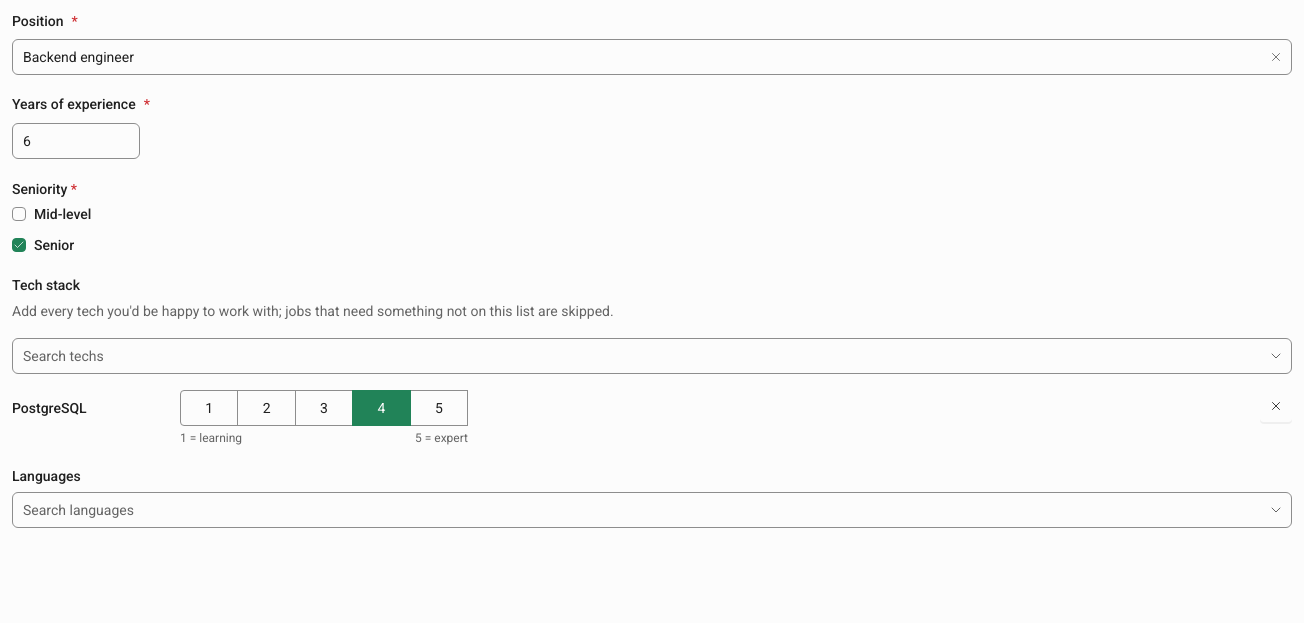
Test: JobForm › a new language row has no level, and Continue asks for one
The image size is (1304, 623).
Type "fre" into the dropdown named "Add a language" at [638, 510], box [13,492,1264,528]
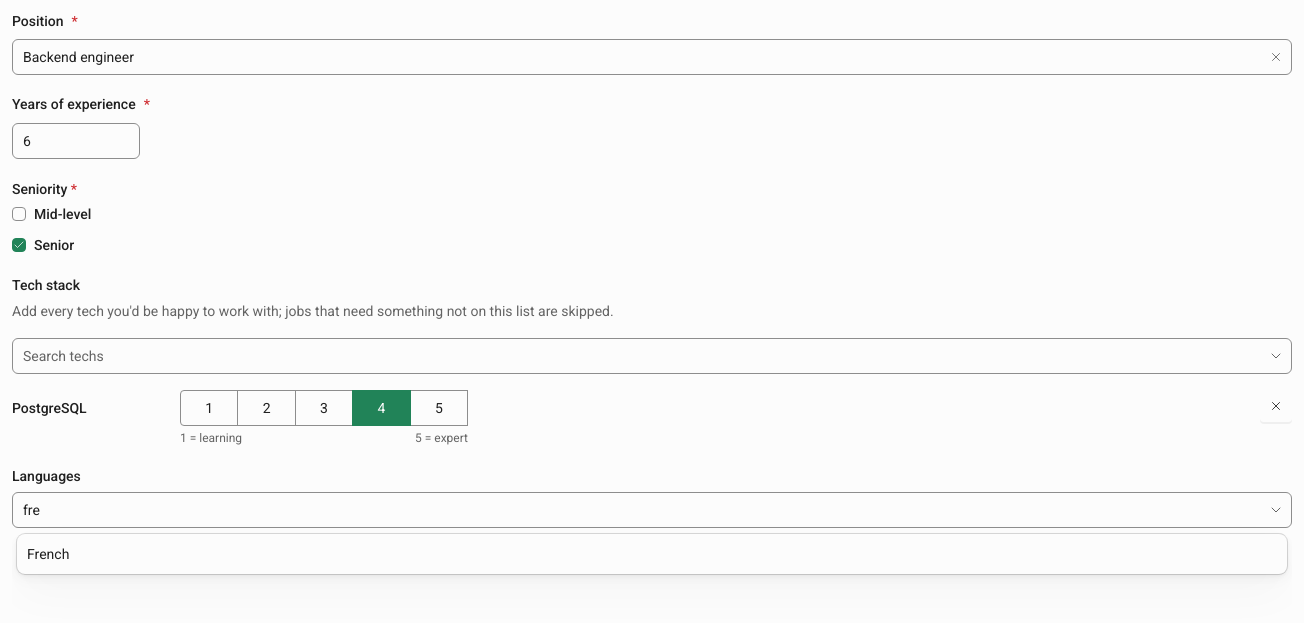
Click the option "French" at [48, 554], box [27,546,69,562]
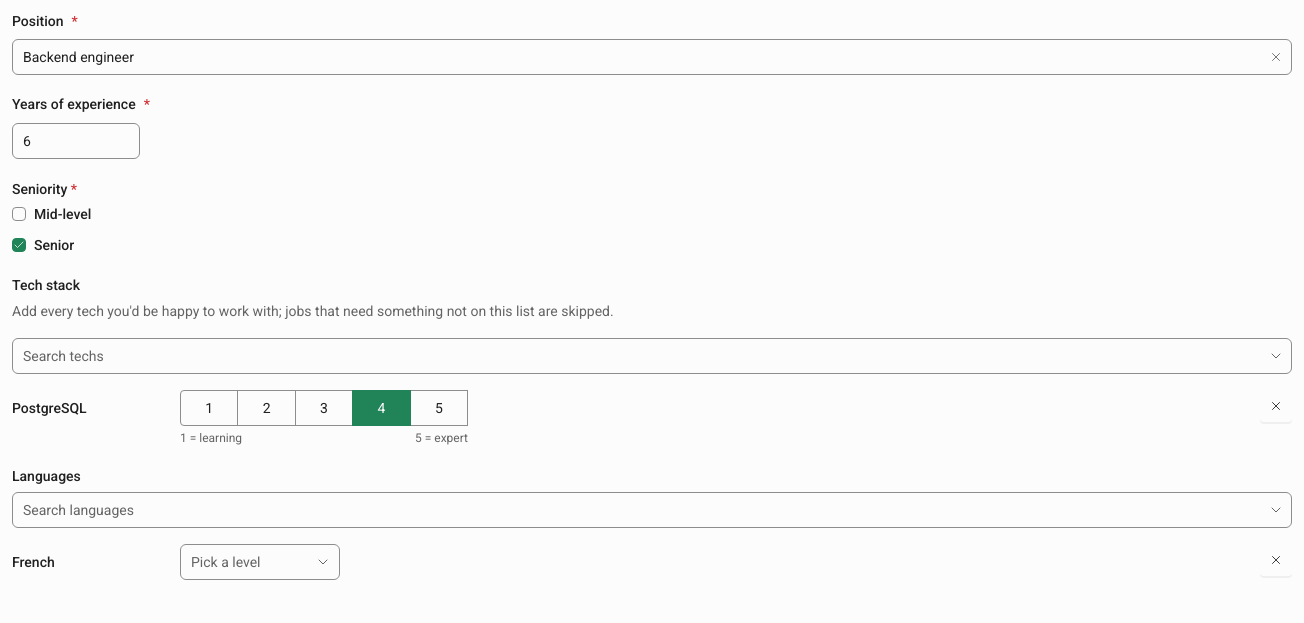
Submit the form
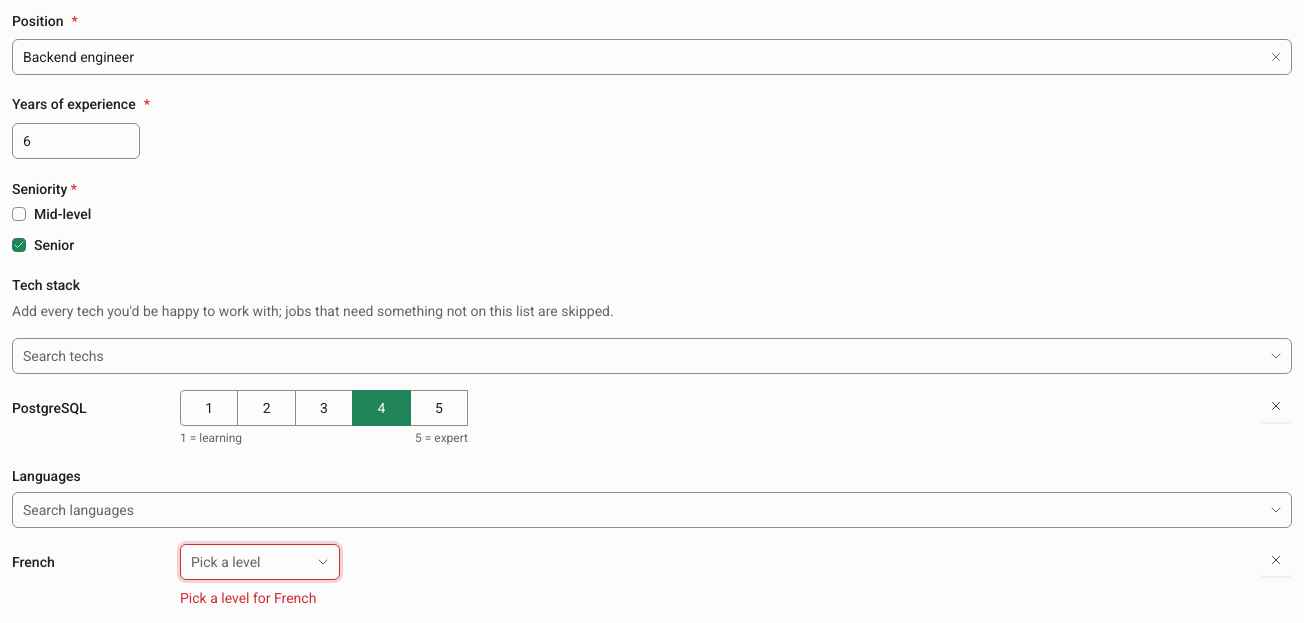
Expected: the text "Pick a level for French" is shown, [180,590,316,606]
